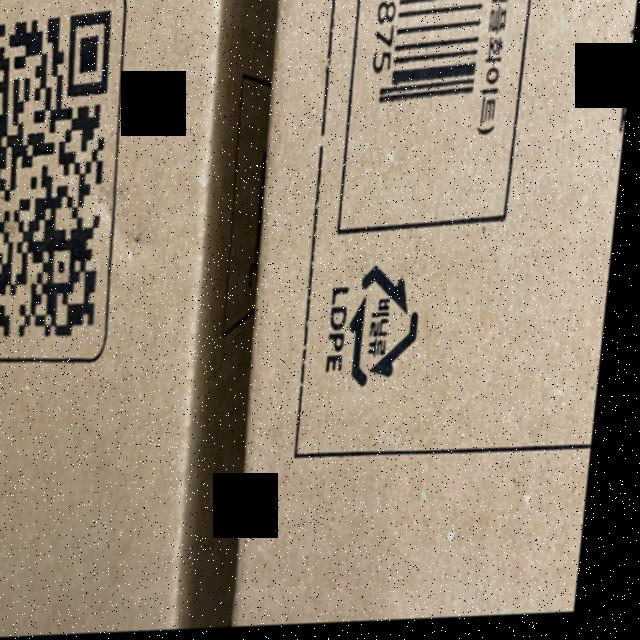Vinyl: (350, 265, 435, 393)
